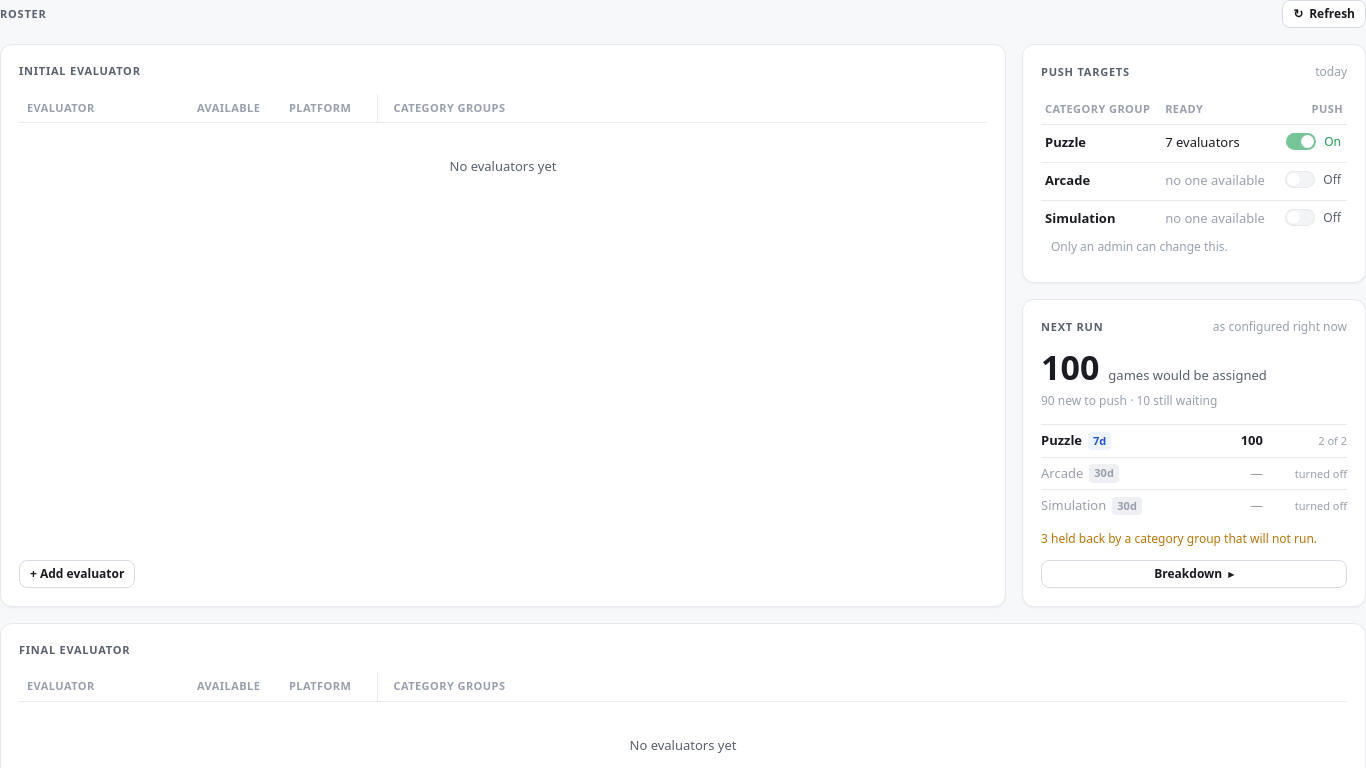
it: AssignSetup next-run panel › a non-admin sees the numbers but gets no run button
Click the button "Breakdown ▸".
click(1194, 574)  # box [1041,560,1347,588]
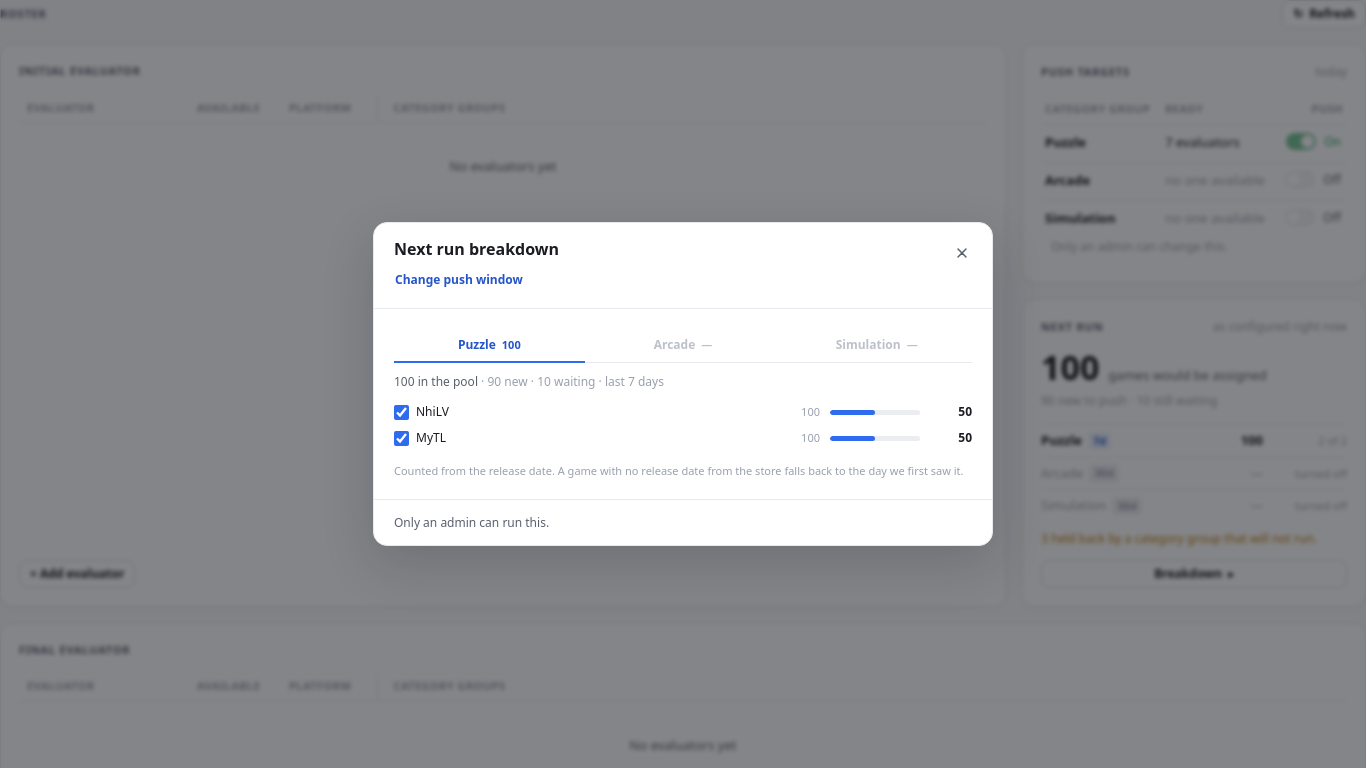
Result: the text "Only an admin can run this." is shown at [394,514,549,531]
